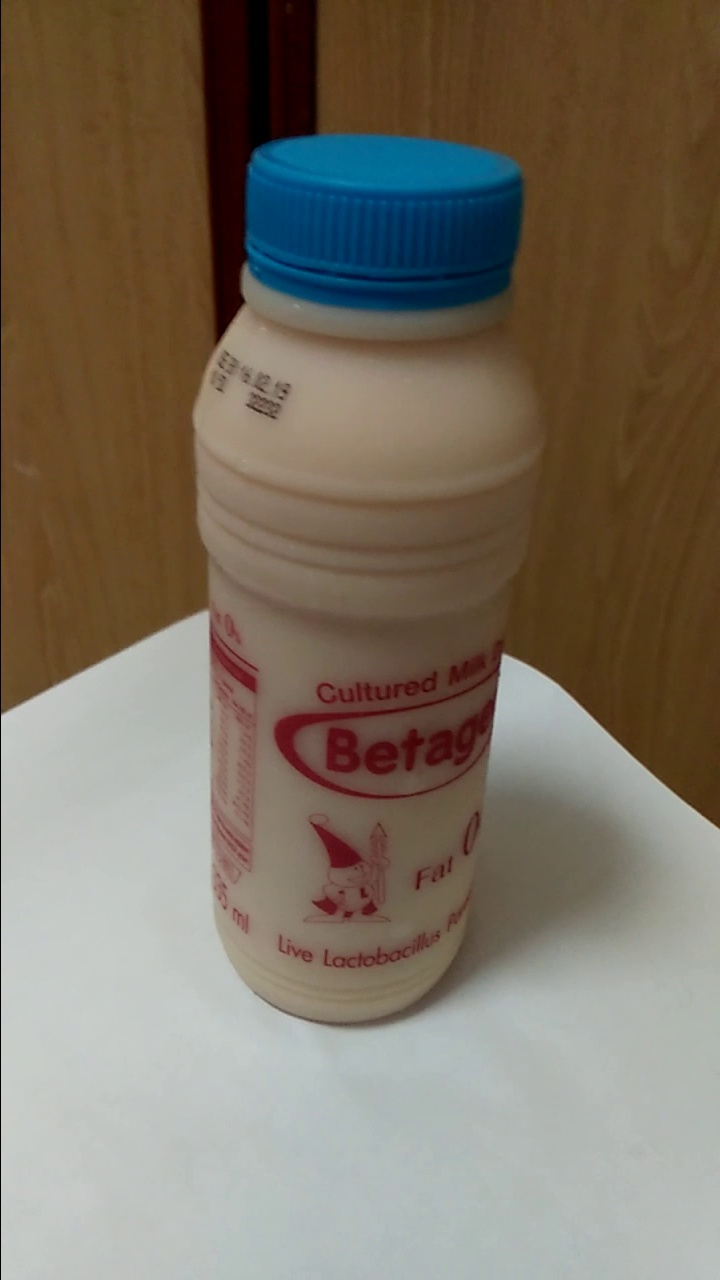mlik2: (207, 137, 511, 1031)
